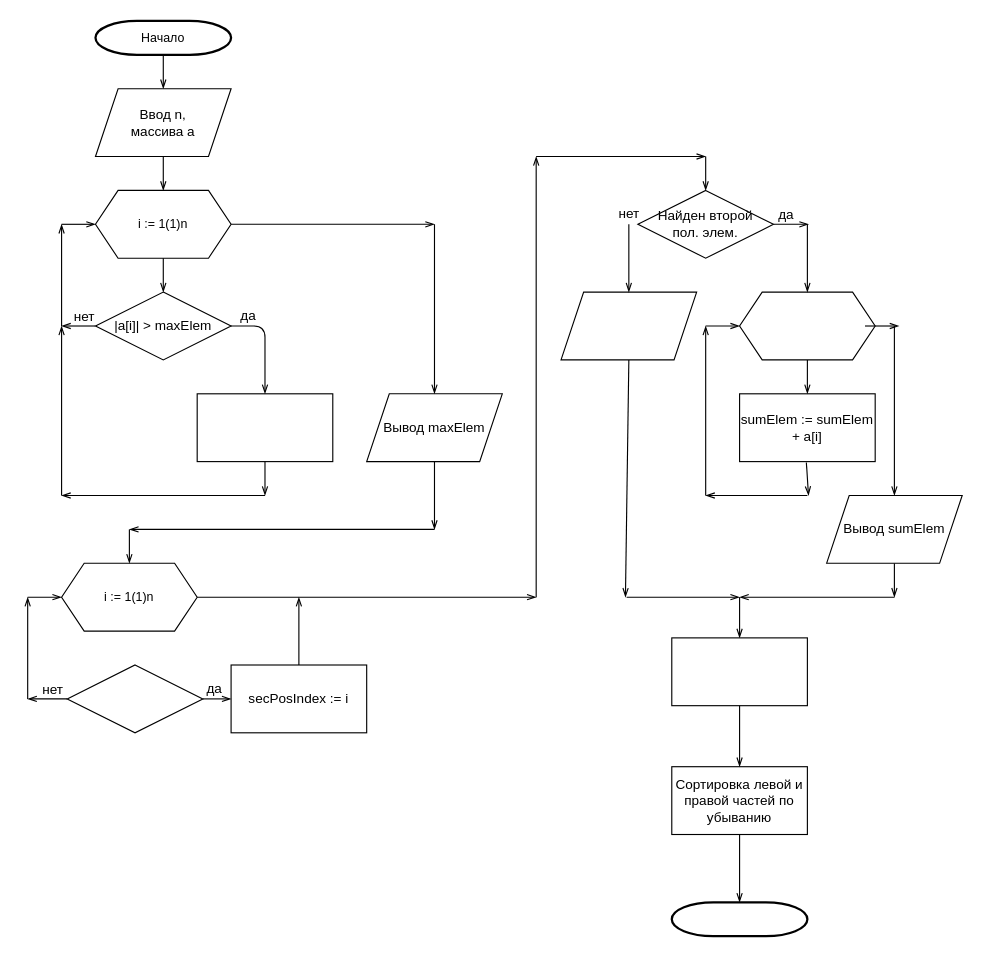
Image size: 982x956. Some labels were removed from this diagram. Each missing label, with the centre of its shape:
i := (secPosIndex + 1)(1)n: the point at 806,325
maxElem := |a[i]|: the point at 264,427
Вывод соответствующего сообщения: the point at 628,325
Найден второй полож. элем.: the point at 134,698
Сортировка массива по возрастанию: the point at 739,671
